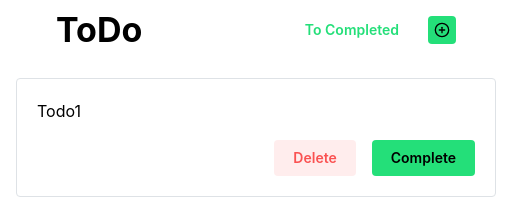
Test: Pending Window › Deleting items does remove from UI
Note: Intentionally don't wait for click to complete, we just wait for the element removal instead
Click the button "Delete" at x=315, y=158, box [274, 140, 356, 176]
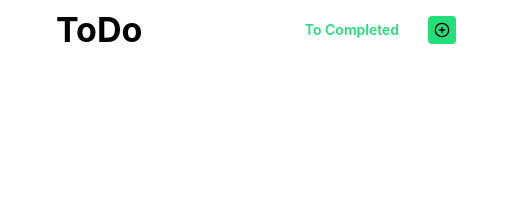
Now the element with test id "todo-id1" is gone
